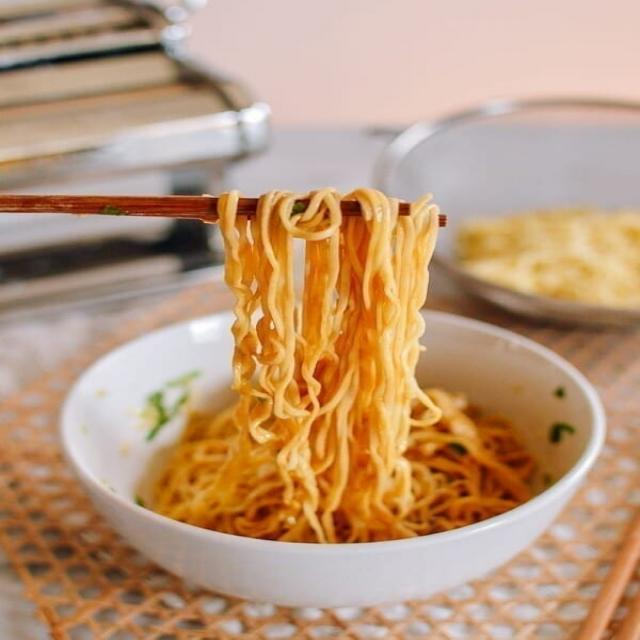noodle: (151, 183, 549, 553)
